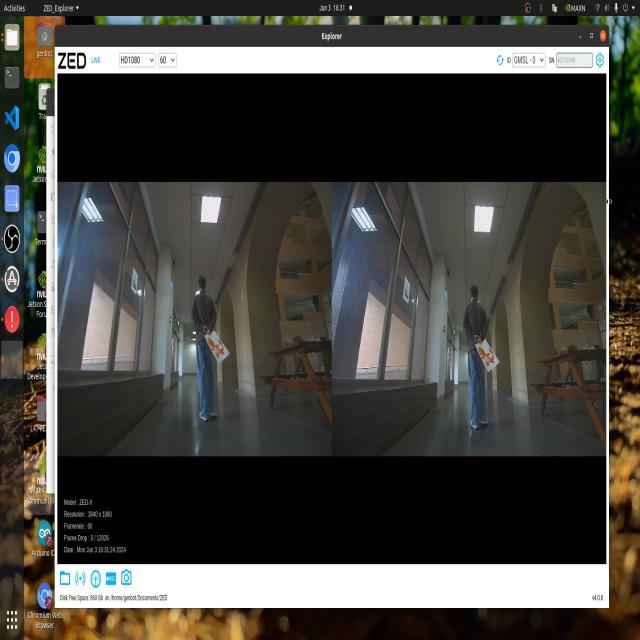red: (462, 338, 500, 376), (211, 331, 230, 365)
